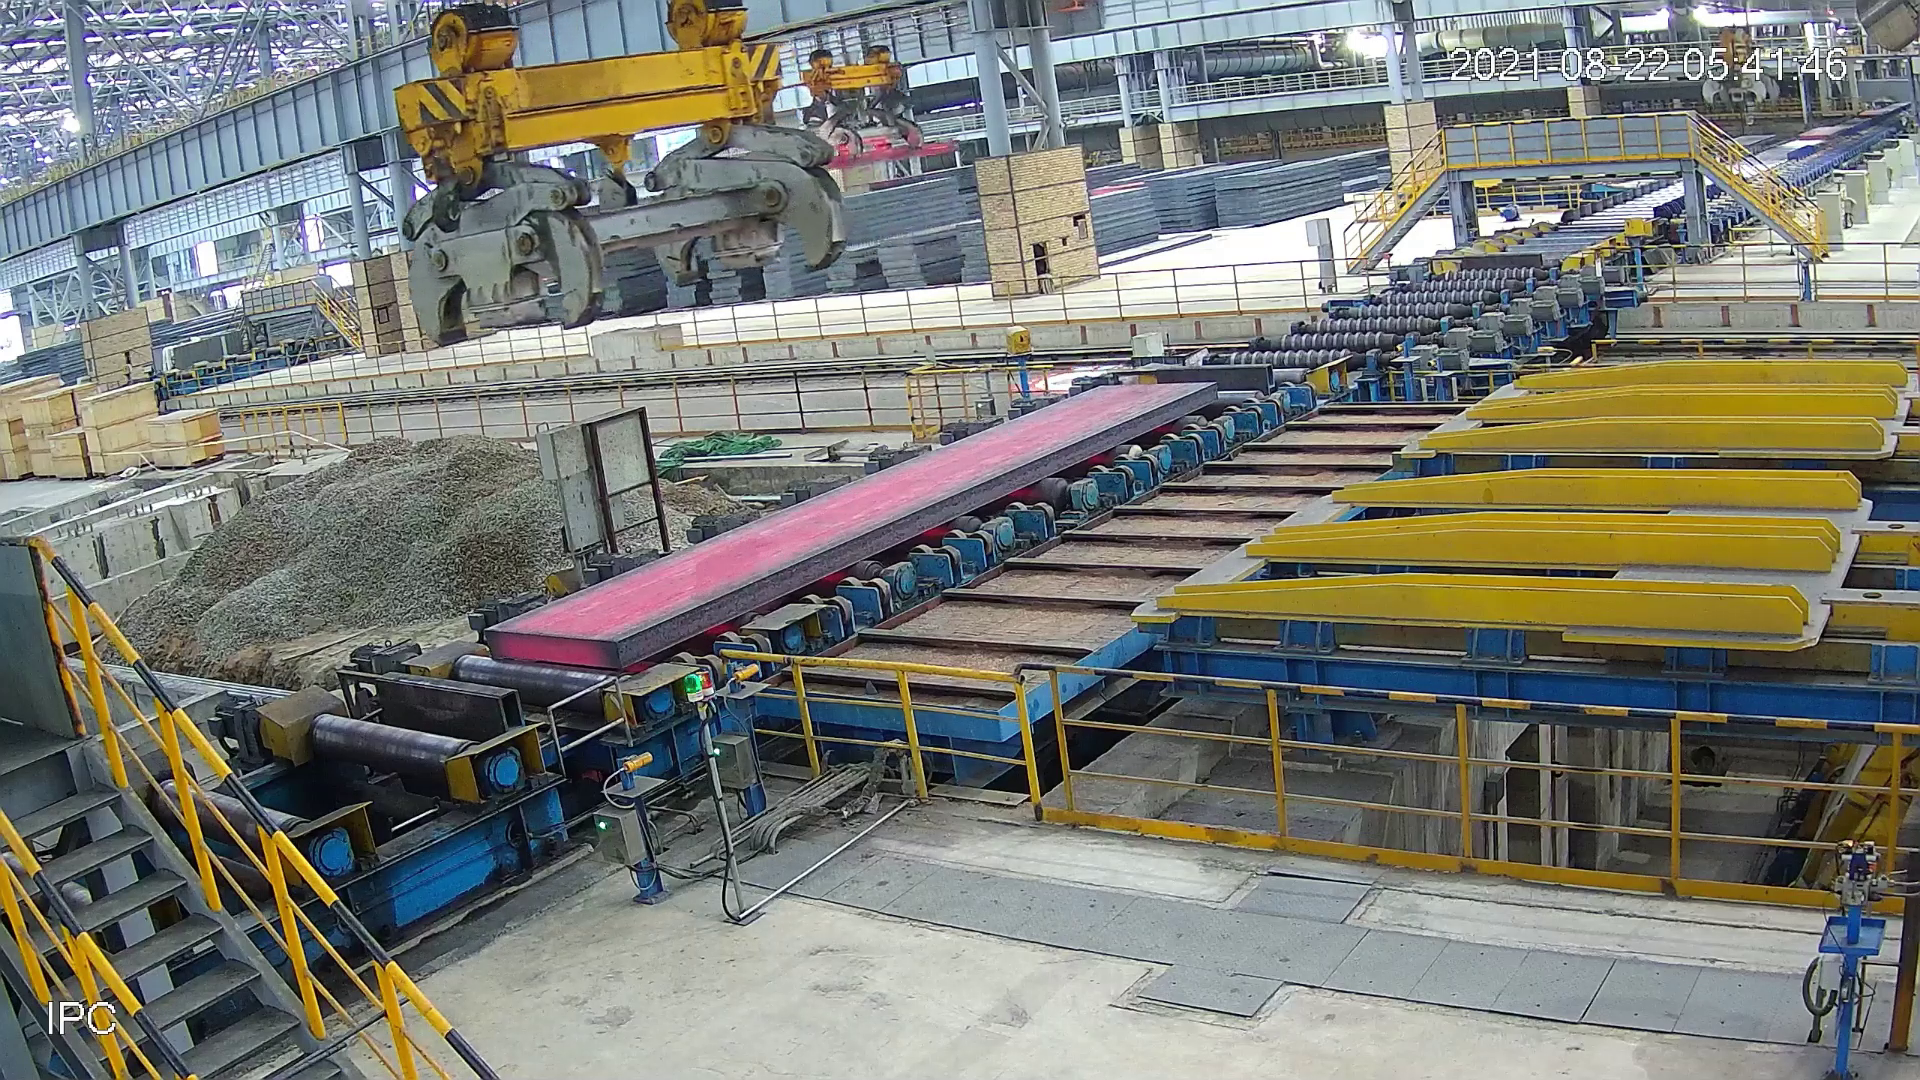crane: (392, 1, 851, 349), (1692, 26, 1783, 119)
slab: (477, 375, 1225, 676)
